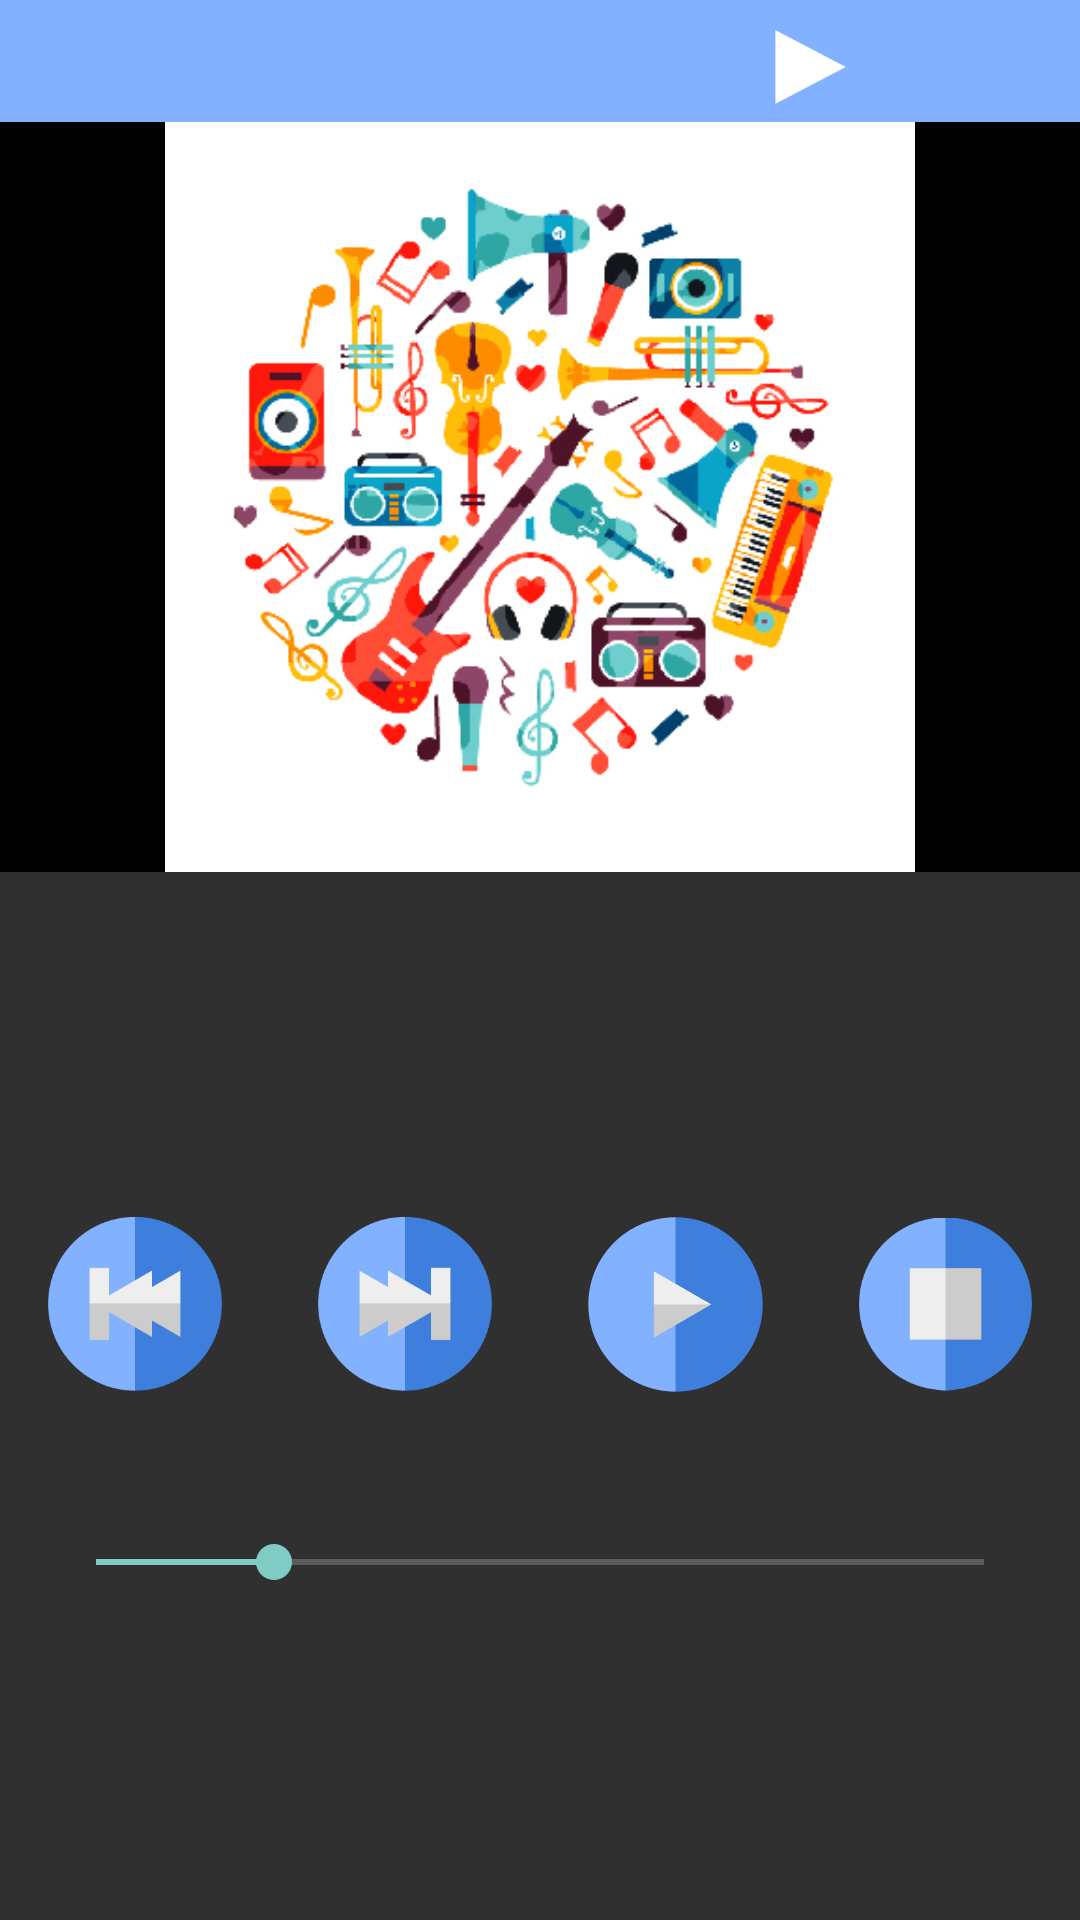

Screen size 1080 × 1920. Icon name, then its box in pixels as [x1,y1,x2,y2]:
stop: [859,1218,1032,1391]
